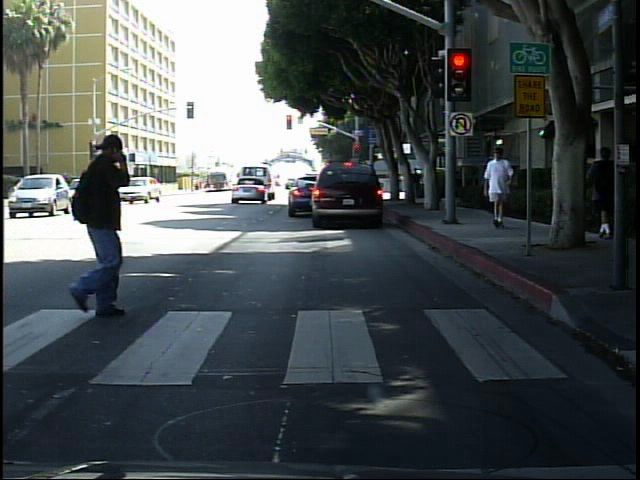person: (45, 126, 156, 340), (588, 137, 621, 246), (480, 145, 519, 234)
